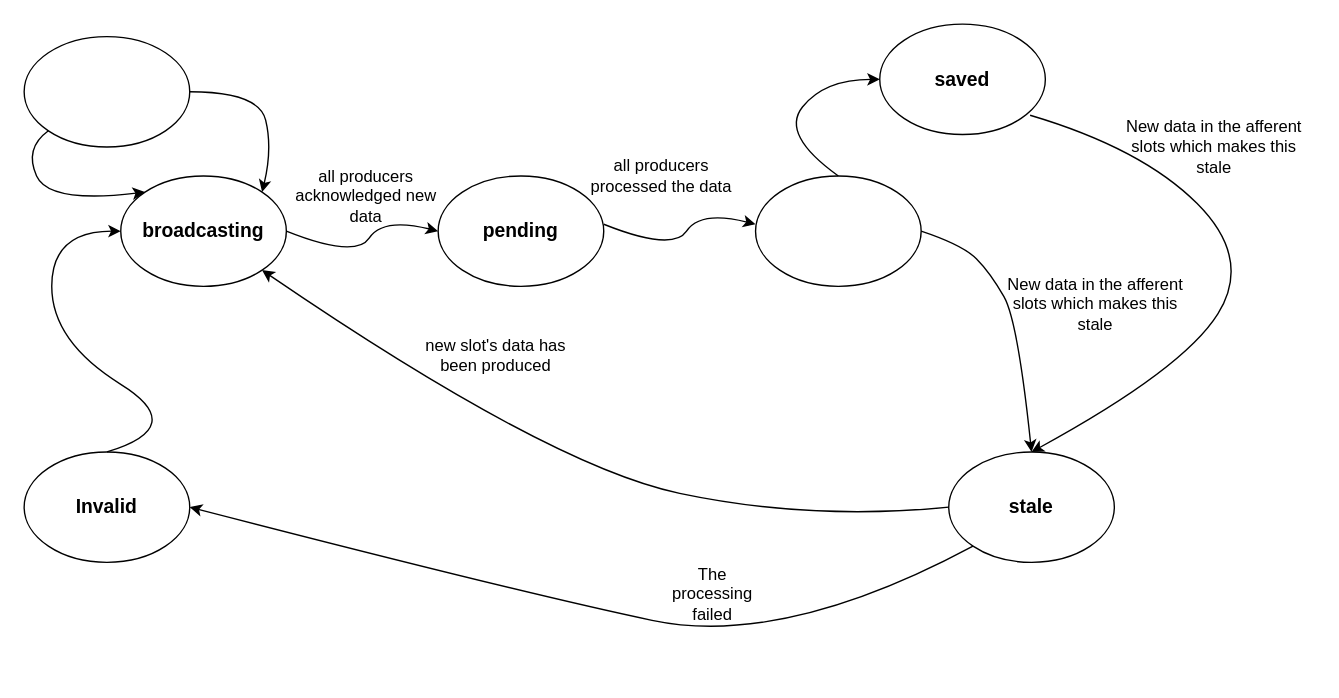
The diagram is 1339 pixels wide and 698 high, and some of its shapes have lost their labels. Here are the shapes that lost their labels. From the top down, the centre of each, then its label:
At point (106, 91): "void".
At point (837, 230): "current".
